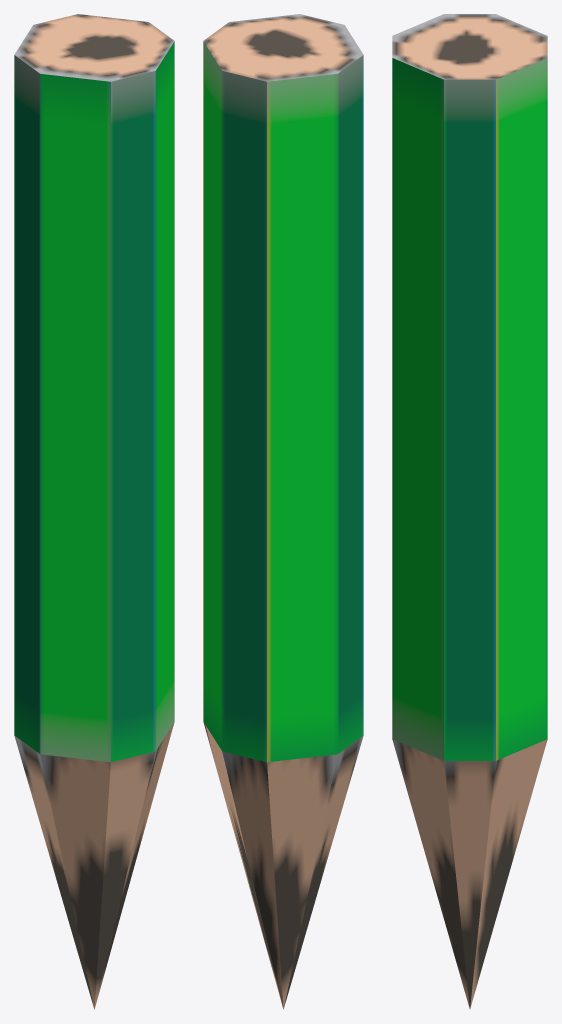
Rendered from pencil_model.obj.
The picture shows the model from 3 angles, left to right: view 1: azimuth 30°, elevation 25°; view 2: azimuth 150°, elevation 25°; view 3: azimuth 270°, elevation 25°; orthographic projection.
Parts seen in each view (by area): view 1: pencil_model; view 2: pencil_model; view 3: pencil_model.
Part boxes in pixels (x1,y1,x2,y2): pencil_model: [14, 14, 174, 1009]; pencil_model: [203, 14, 363, 1009]; pencil_model: [392, 14, 547, 1008].
Bounding box in the file's own units: 1.5 × 10.25 × 1.5.
Materials: 1 (1 with a texture image).
